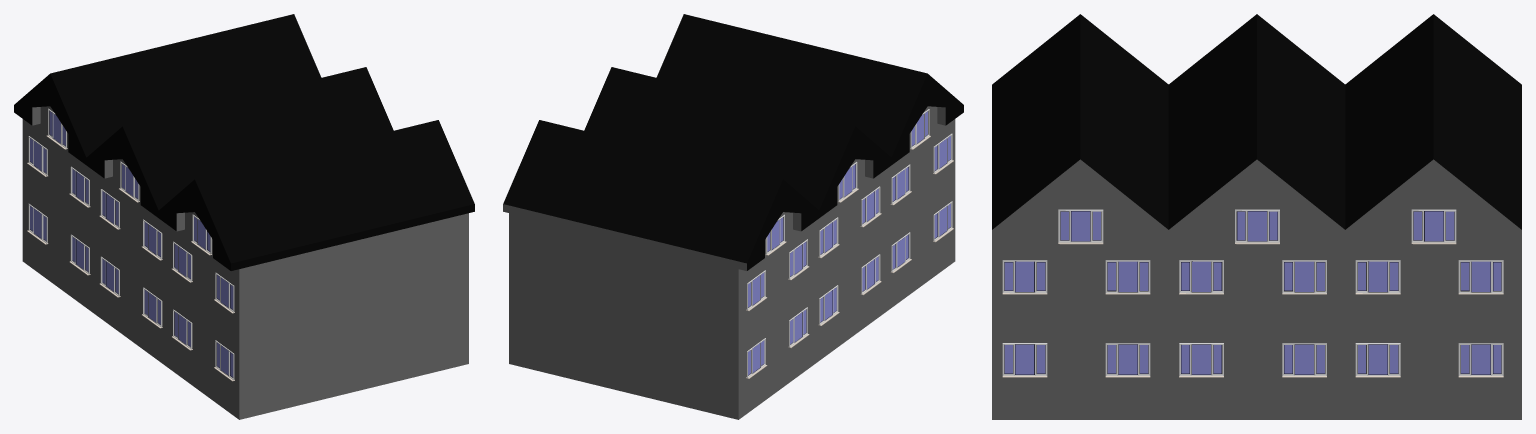
The model's file is ThreeTerracedHouses.fbx.
The picture shows the model from 3 angles, left to right: view 1: azimuth 30°, elevation 25°; view 2: azimuth 150°, elevation 25°; view 3: azimuth 270°, elevation 25°; orthographic projection. The views are drawn at different scales.
Visible parts, largest first — view 1: TerracedHouses; view 2: TerracedHouses; view 3: TerracedHouses.
Boxes of the visible parts, box(x1,y1,x2,y2) form: TerracedHouses: box(14, 14, 474, 419); TerracedHouses: box(503, 14, 963, 419); TerracedHouses: box(992, 14, 1521, 419).
Bounding box in the file's own units: 1169 × 993 × 1800.
